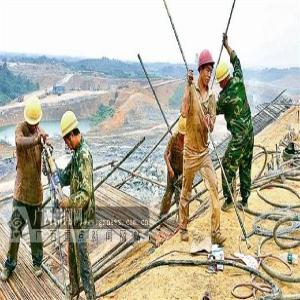red: (198, 52, 214, 88)
yellow: (60, 110, 81, 151), (24, 97, 43, 138), (215, 61, 231, 90), (177, 115, 188, 143)
